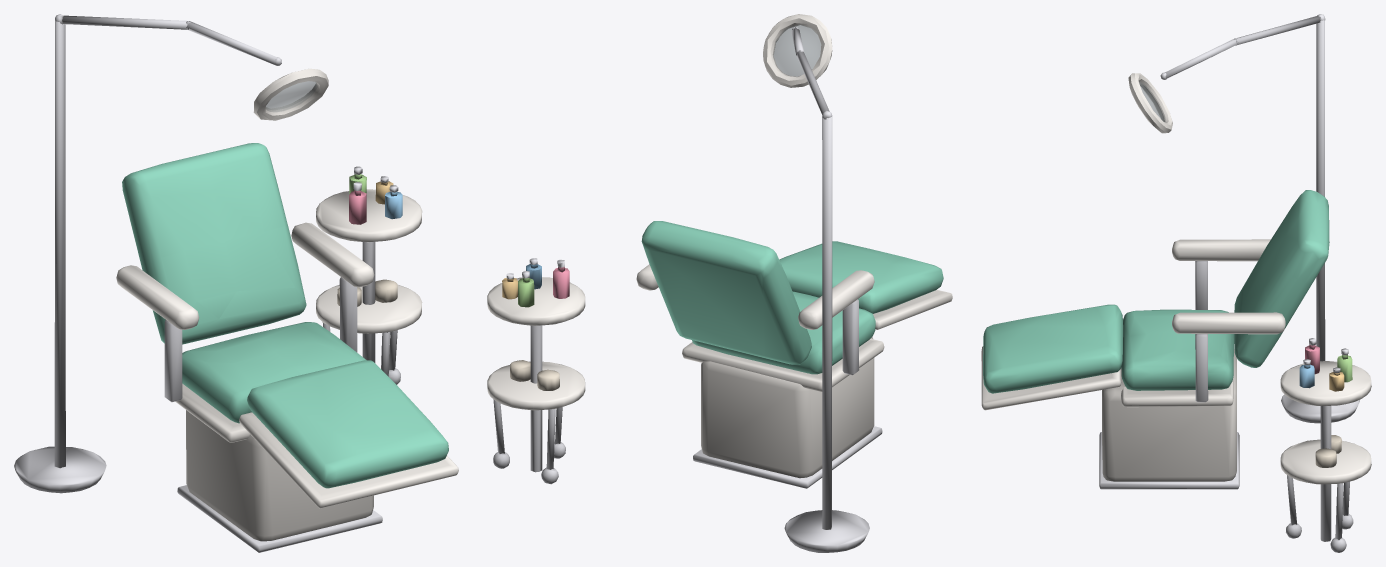
The model's file is facial-chair-mint.glb.
3 renders of one model, left to right at view 1: azimuth 30°, elevation 25°; view 2: azimuth 150°, elevation 25°; view 3: azimuth 270°, elevation 25°, orthographic. The views are drawn at different scales.
Parts seen in each view (by area): view 1: facial-chair-mint; view 2: facial-chair-mint; view 3: facial-chair-mint.
Boxes of the visible parts, left/top/right/bottom form: facial-chair-mint: left=14, top=14, right=458, bottom=552; facial-chair-mint: left=487, top=14, right=952, bottom=552; facial-chair-mint: left=981, top=14, right=1371, bottom=552.
Size of the model in its own units: 1.46 by 1.65 by 1.44.
